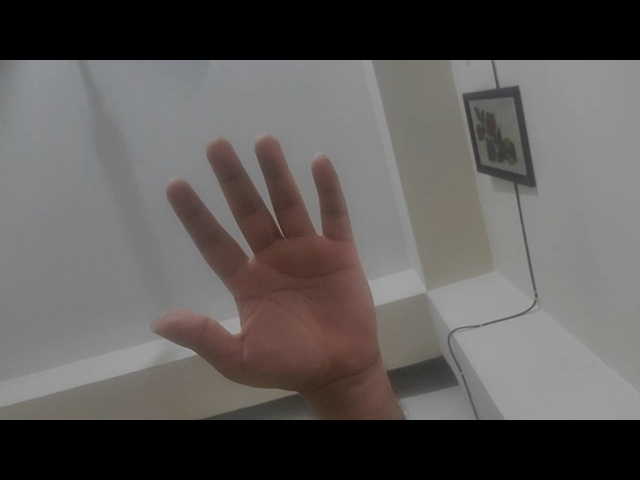Hello: (140, 127, 409, 406)
